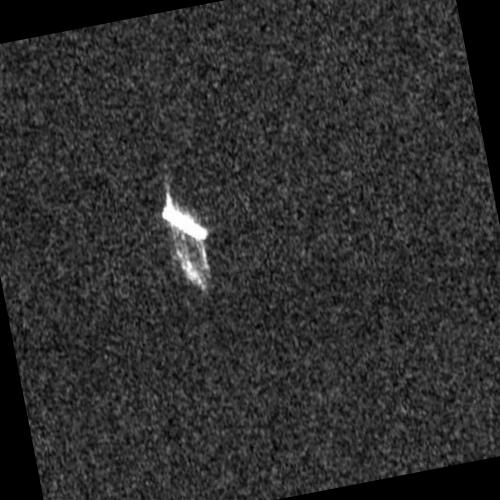ship: (161, 203, 208, 241)
